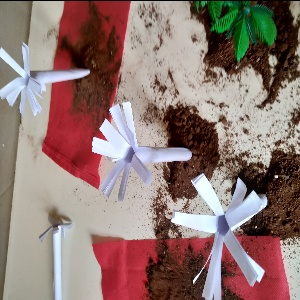plant: (190, 3, 287, 63)
weed: (165, 174, 276, 298), (83, 96, 202, 183), (3, 43, 87, 116), (28, 205, 91, 300)
